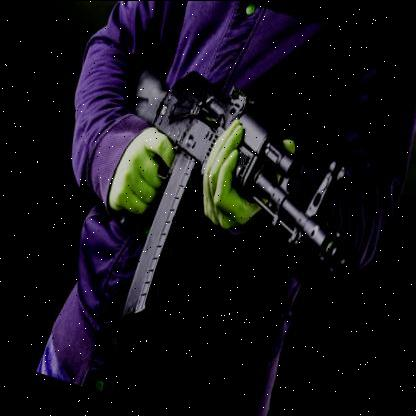rifle: (56, 43, 389, 388)
